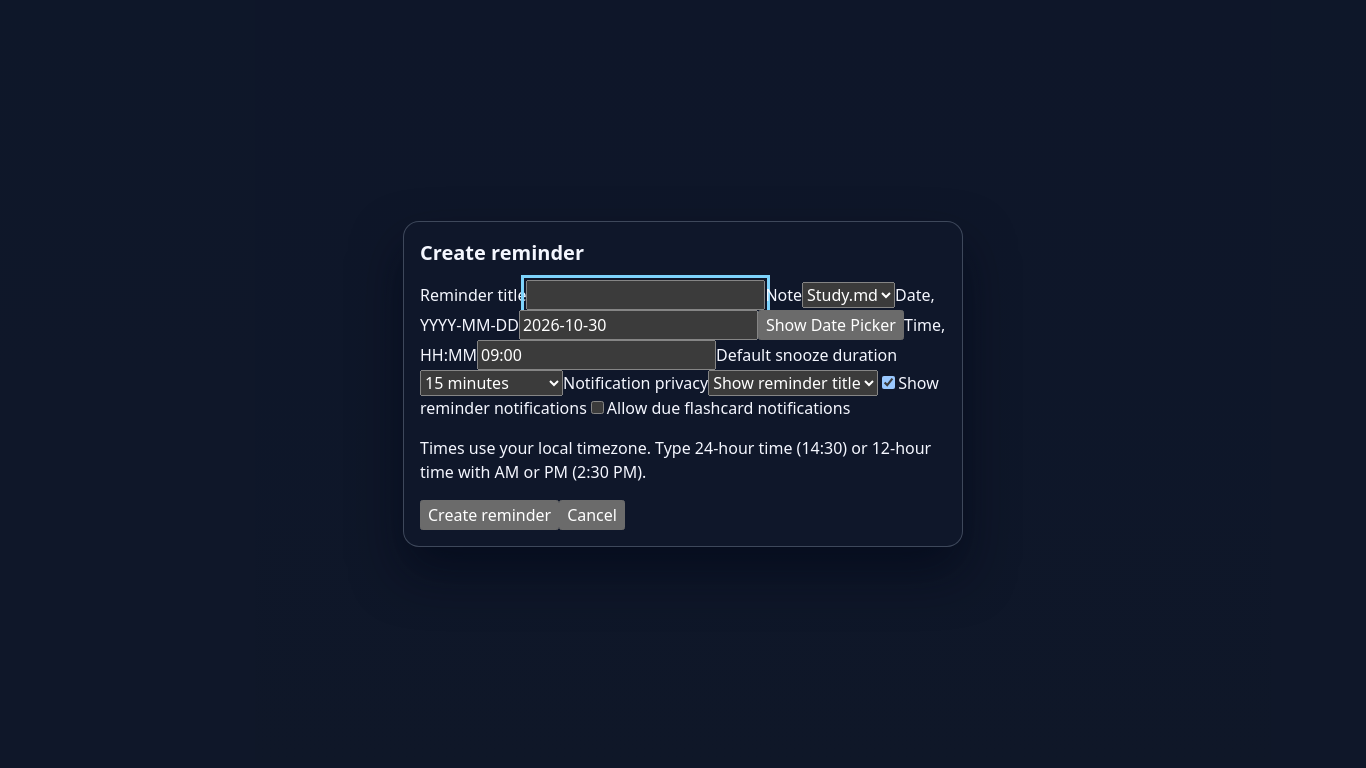
Test case: accessible reminders UI › keeps the dialog open and announces validation or persistence errors
Submit the form "Reminder title", box [420,280,946,530]
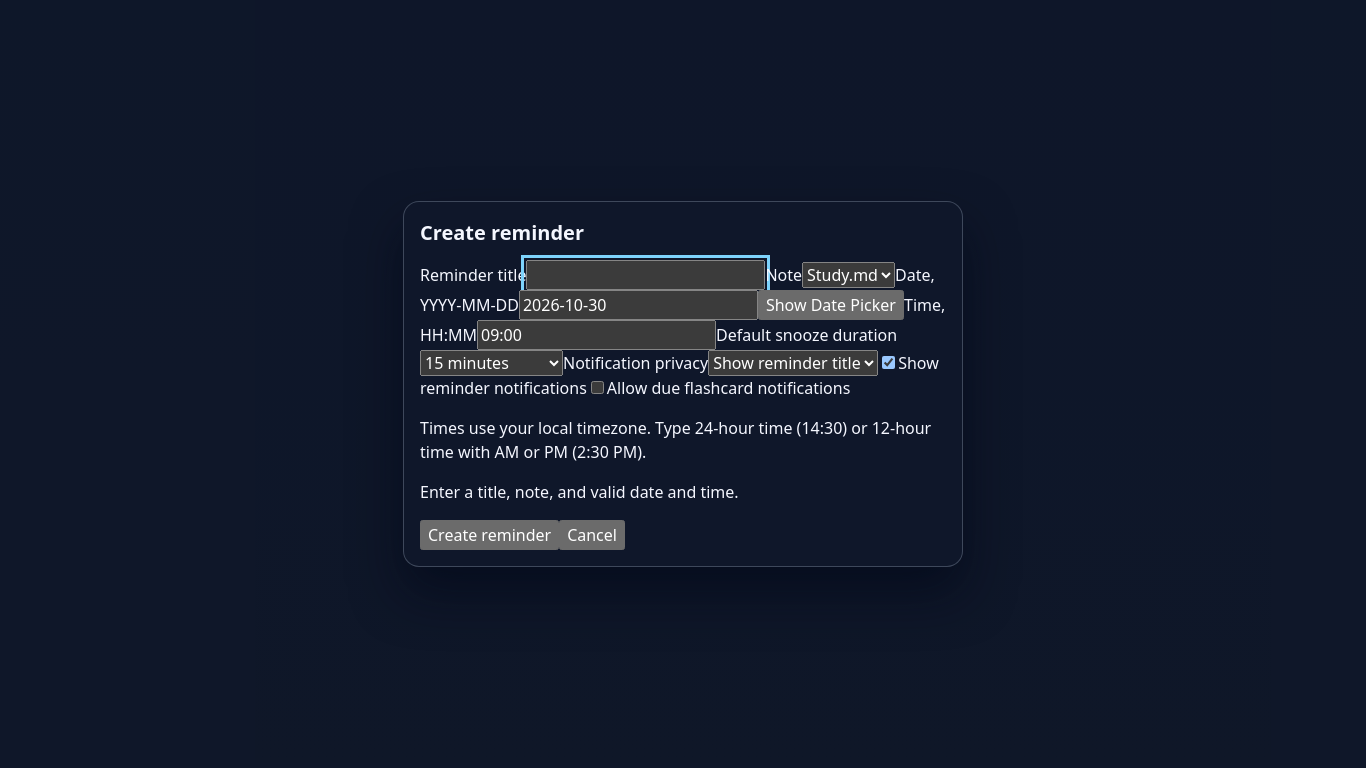
Check: the message shows "valid date and time", box [420,481,739,503]
Type "Meeting" into the field labelled "Reminder title" at (646, 275), box [526,260,765,290]
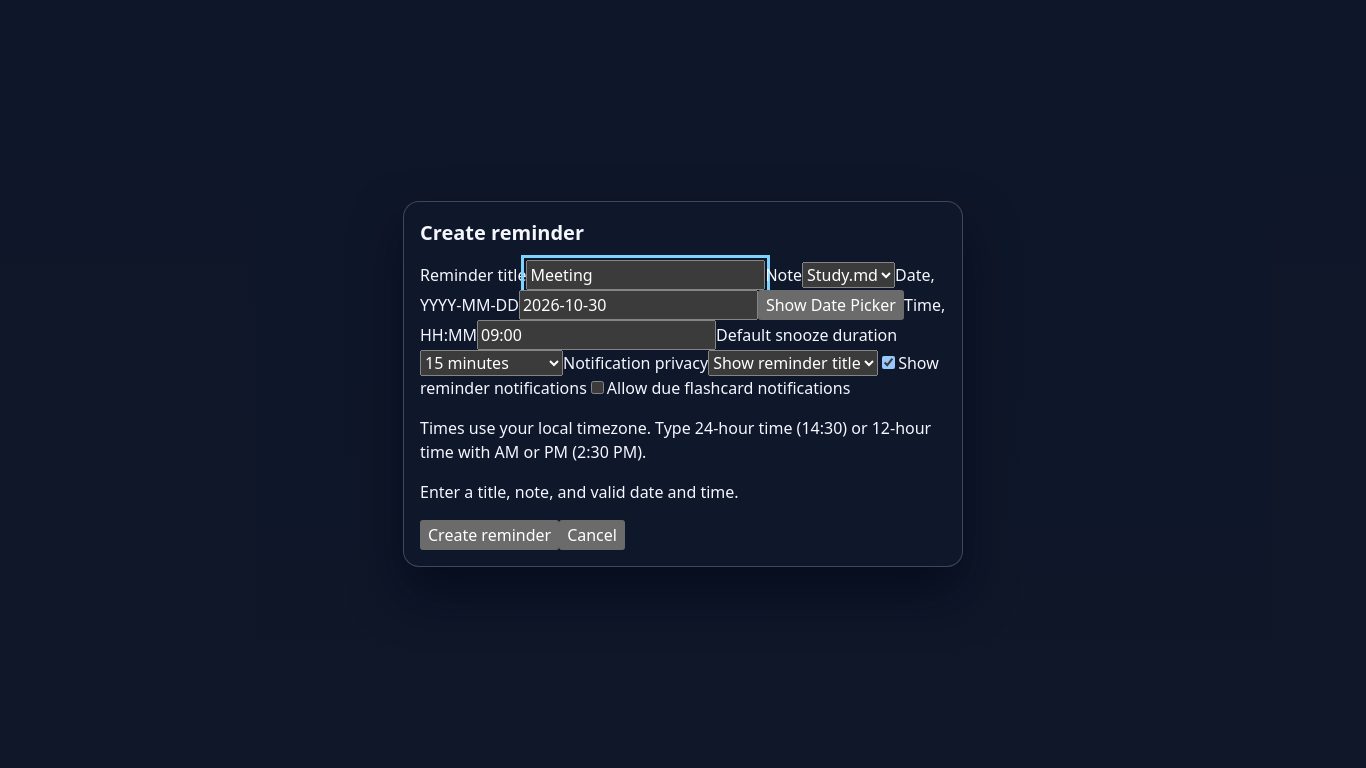
Replace the text in the field labelled "Date, YYYY-MM-DD" with "2026-10-05" at (638, 305), box [519,290,758,320]
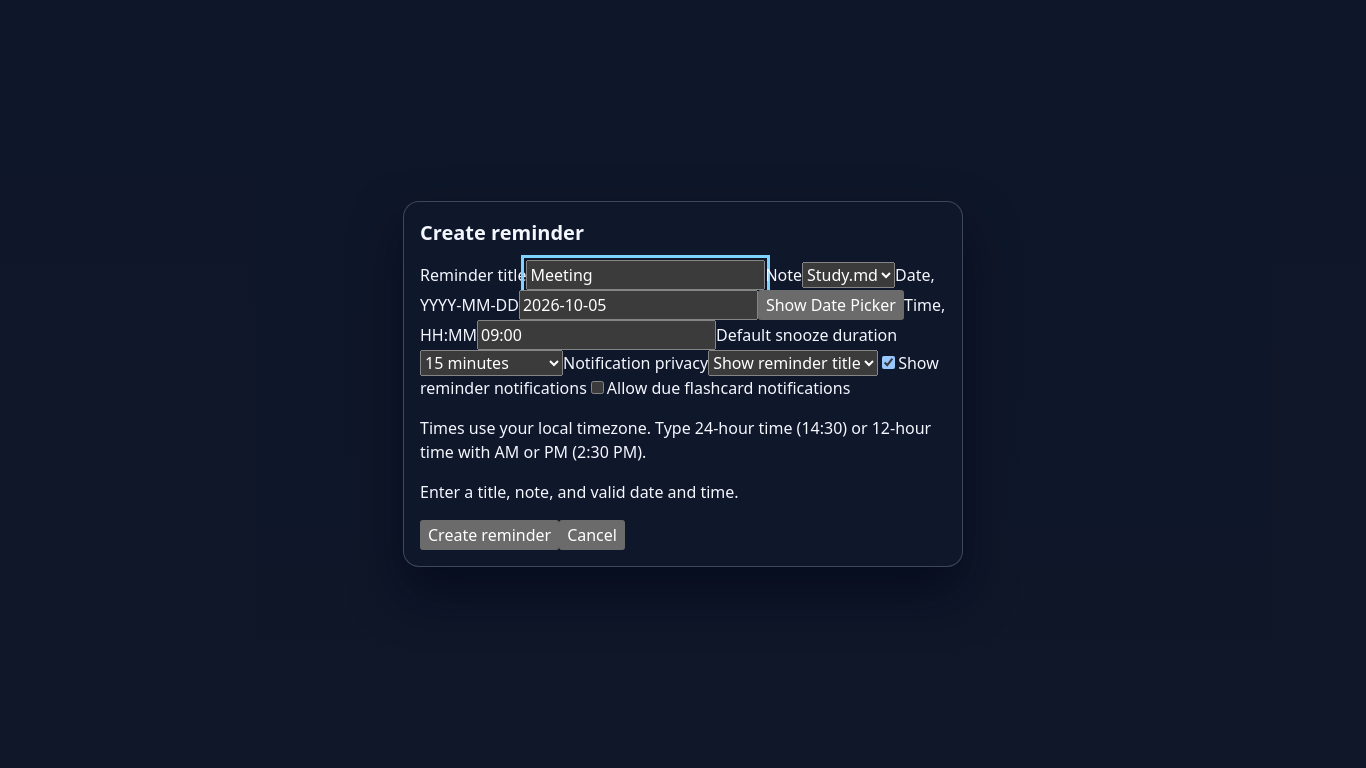
Replace the text in the field labelled "Time, HH:MM" with "12:30" at (596, 335), box [477,320,716,350]
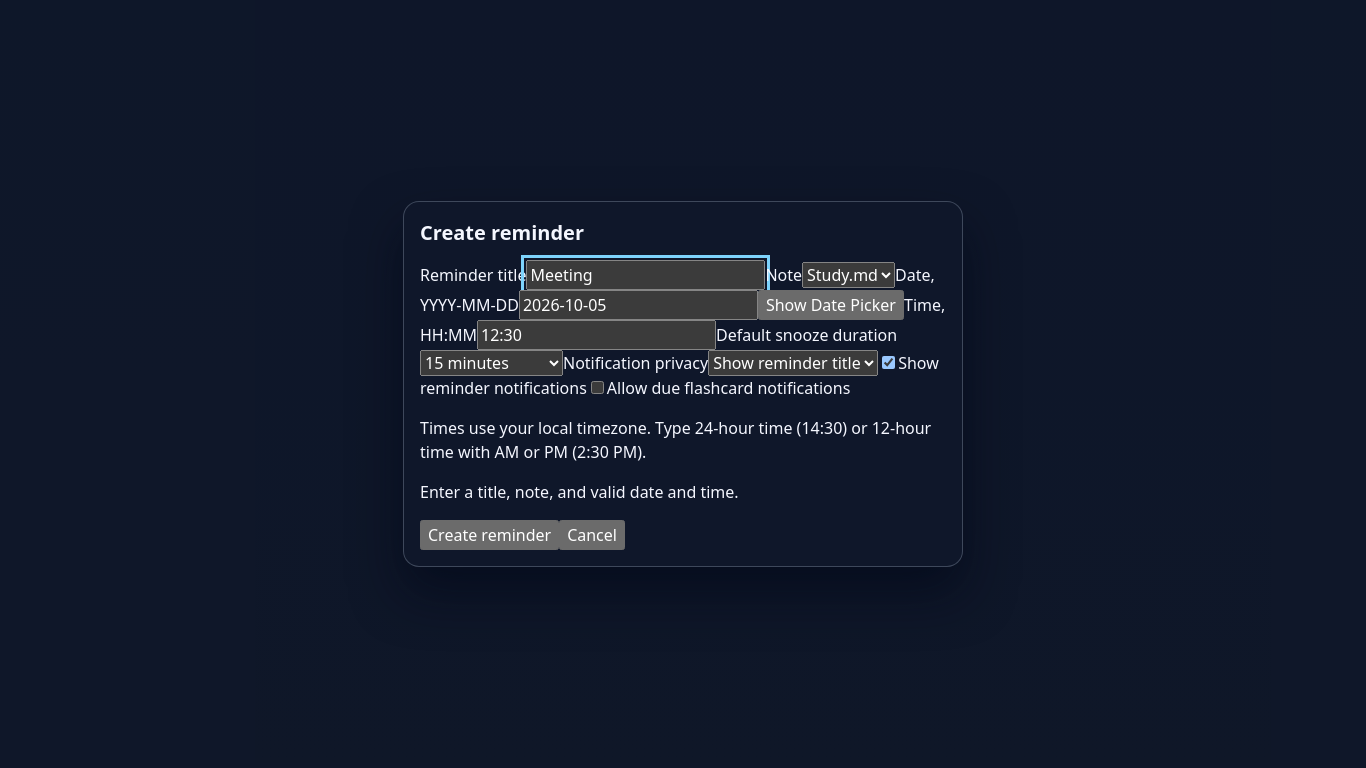
Click the button "Create reminder" at (490, 535), box [420,520,559,550]
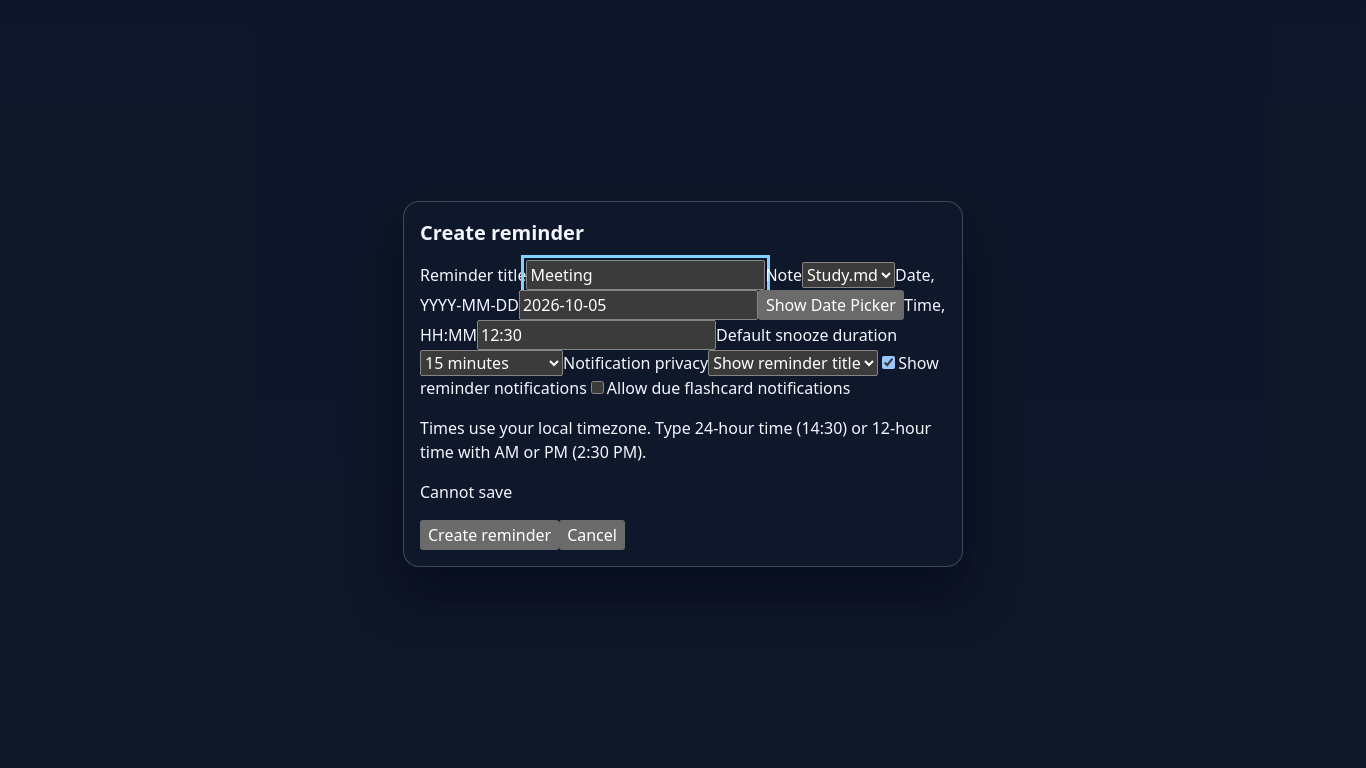
Check: the dialog is shown, box [403,201,963,567]
Check: the message reads "Cannot save", box [420,481,512,503]
